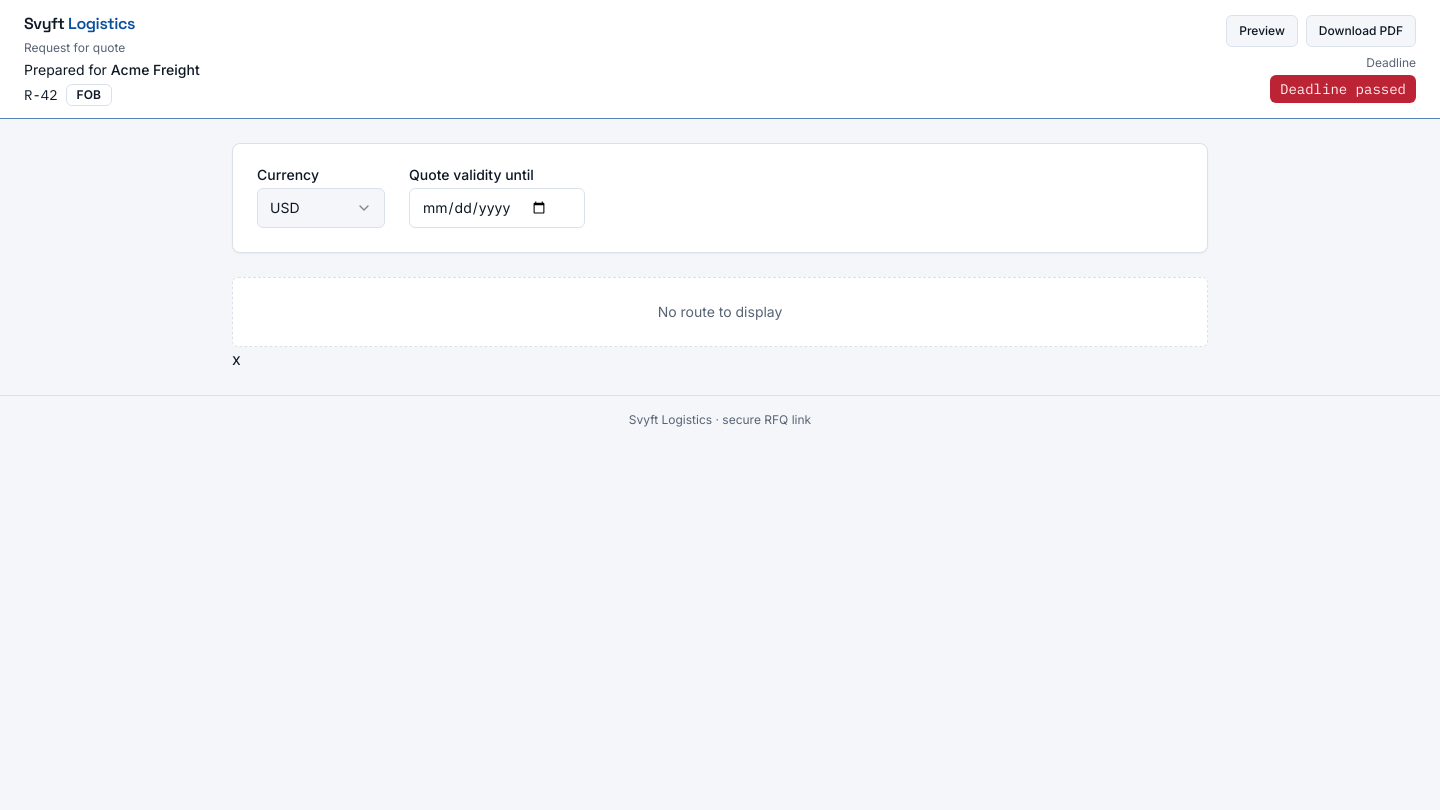
Test: PortalShell — RFQ PDF download + preview › opens a read-only preview dialog showing the print view when Preview is clicked
What coordinates should you click on to do the following:
click the button "Preview"
I would click on:
 (1262, 31)
Its box is [1226,15,1298,47].
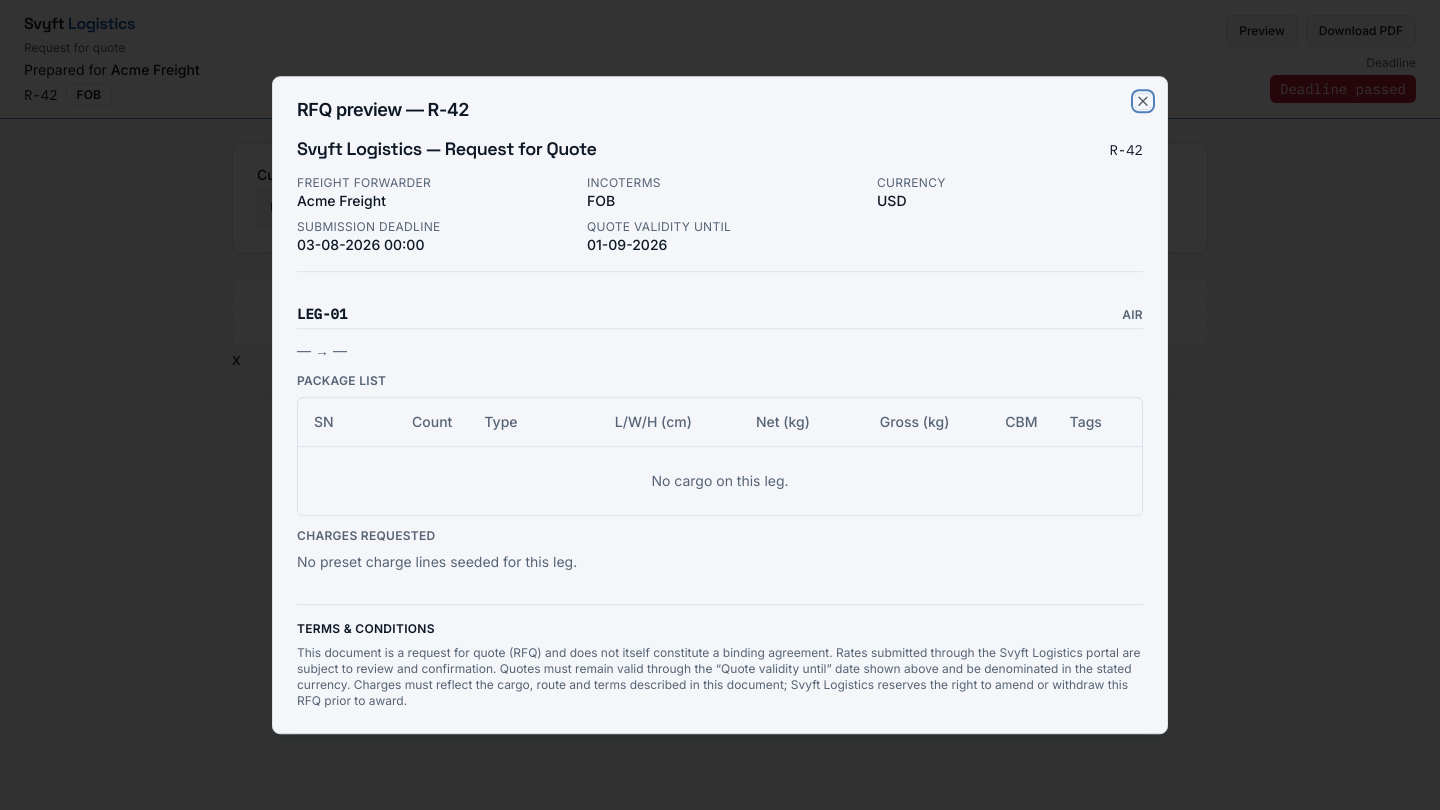
Expected: the heading "LEG-01" is shown, [297,304,347,324]
